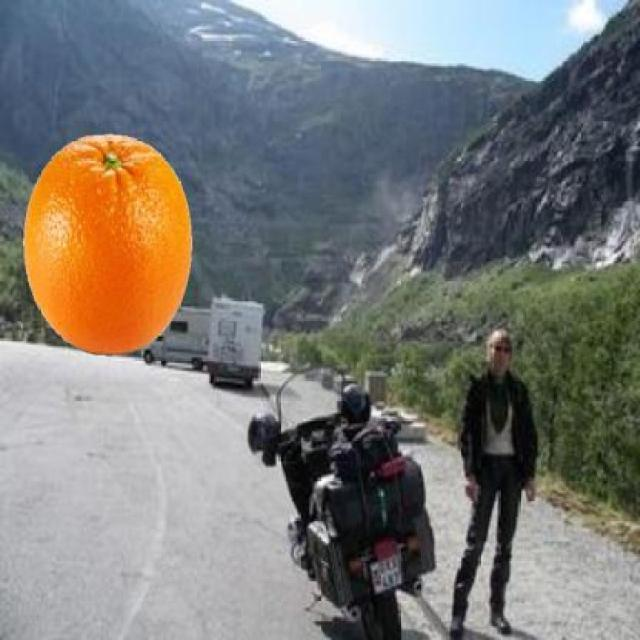Orange: (20, 131, 192, 355)
